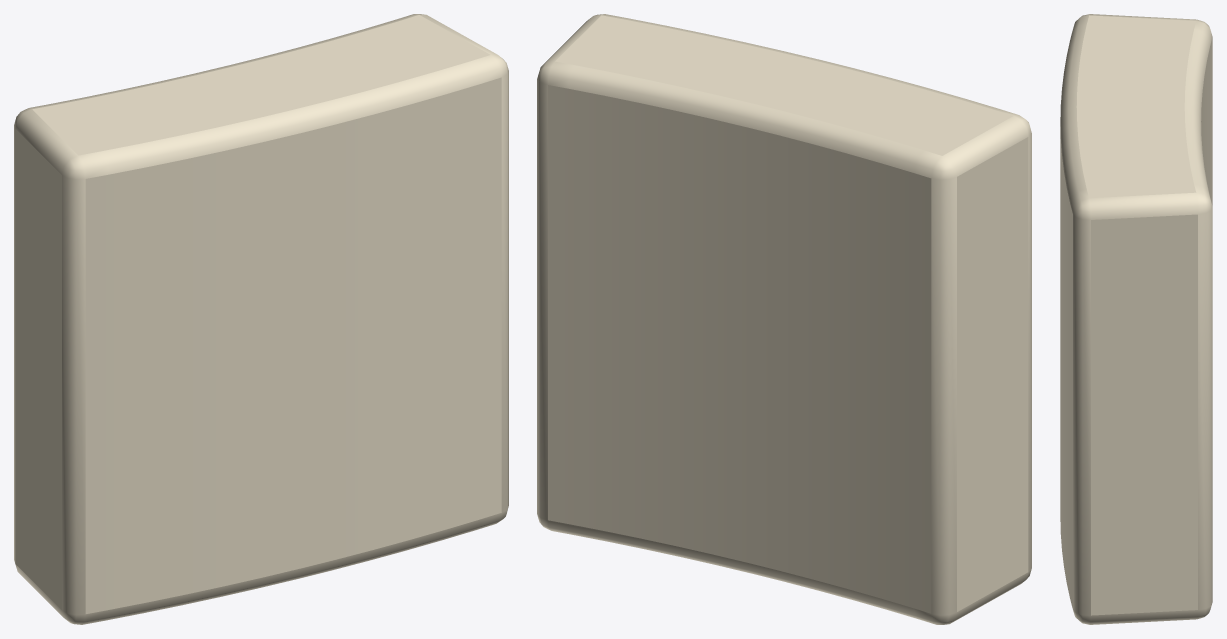
The model's file is ShellTile.fbx.
3 views of the same model, side by side, from view 1: azimuth 30°, elevation 25°; view 2: azimuth 150°, elevation 25°; view 3: azimuth 270°, elevation 25° (orthographic). The views are drawn at different scales.
Parts seen in each view (by area): view 1: ShellTile; view 2: ShellTile; view 3: ShellTile.
Part boxes in pixels (x1,y1,x2,y2): ShellTile: [14, 14, 508, 624]; ShellTile: [537, 14, 1031, 624]; ShellTile: [1060, 14, 1212, 624].
Bounding box in the file's own units: 99.15 × 100 × 32.44.
